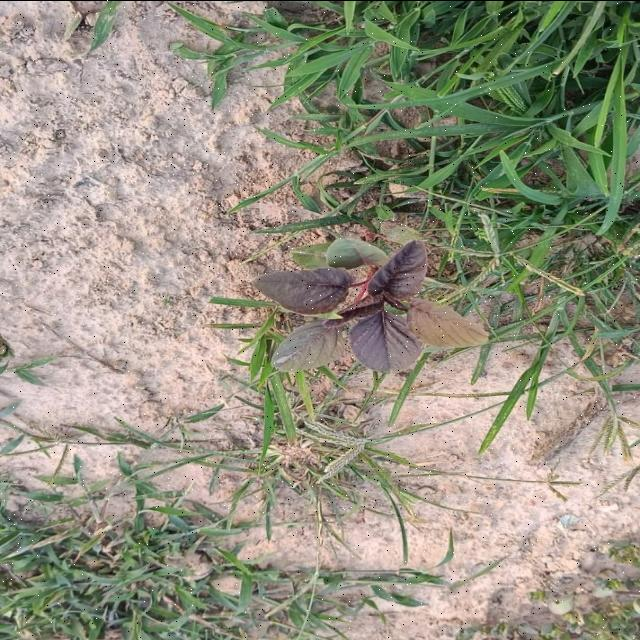plant: (253, 238, 488, 371)
